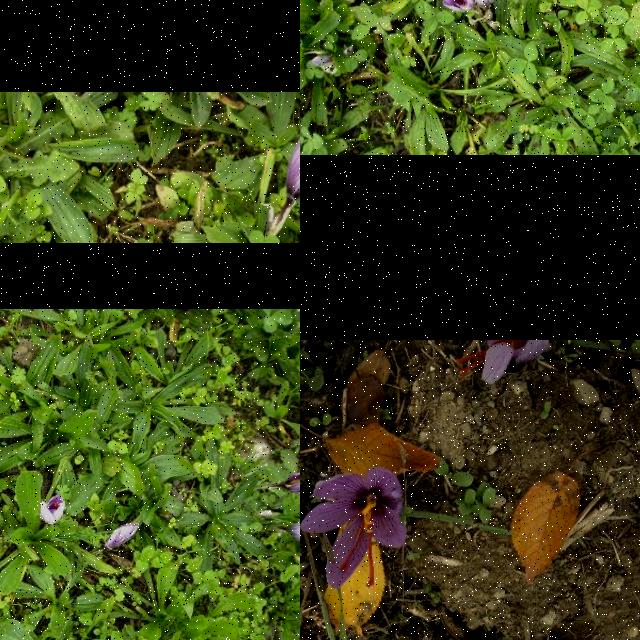flower: (300, 471, 408, 591), (106, 524, 140, 550), (40, 495, 66, 525), (278, 471, 300, 495), (283, 519, 300, 546), (442, 0, 473, 12), (471, 0, 495, 10)
